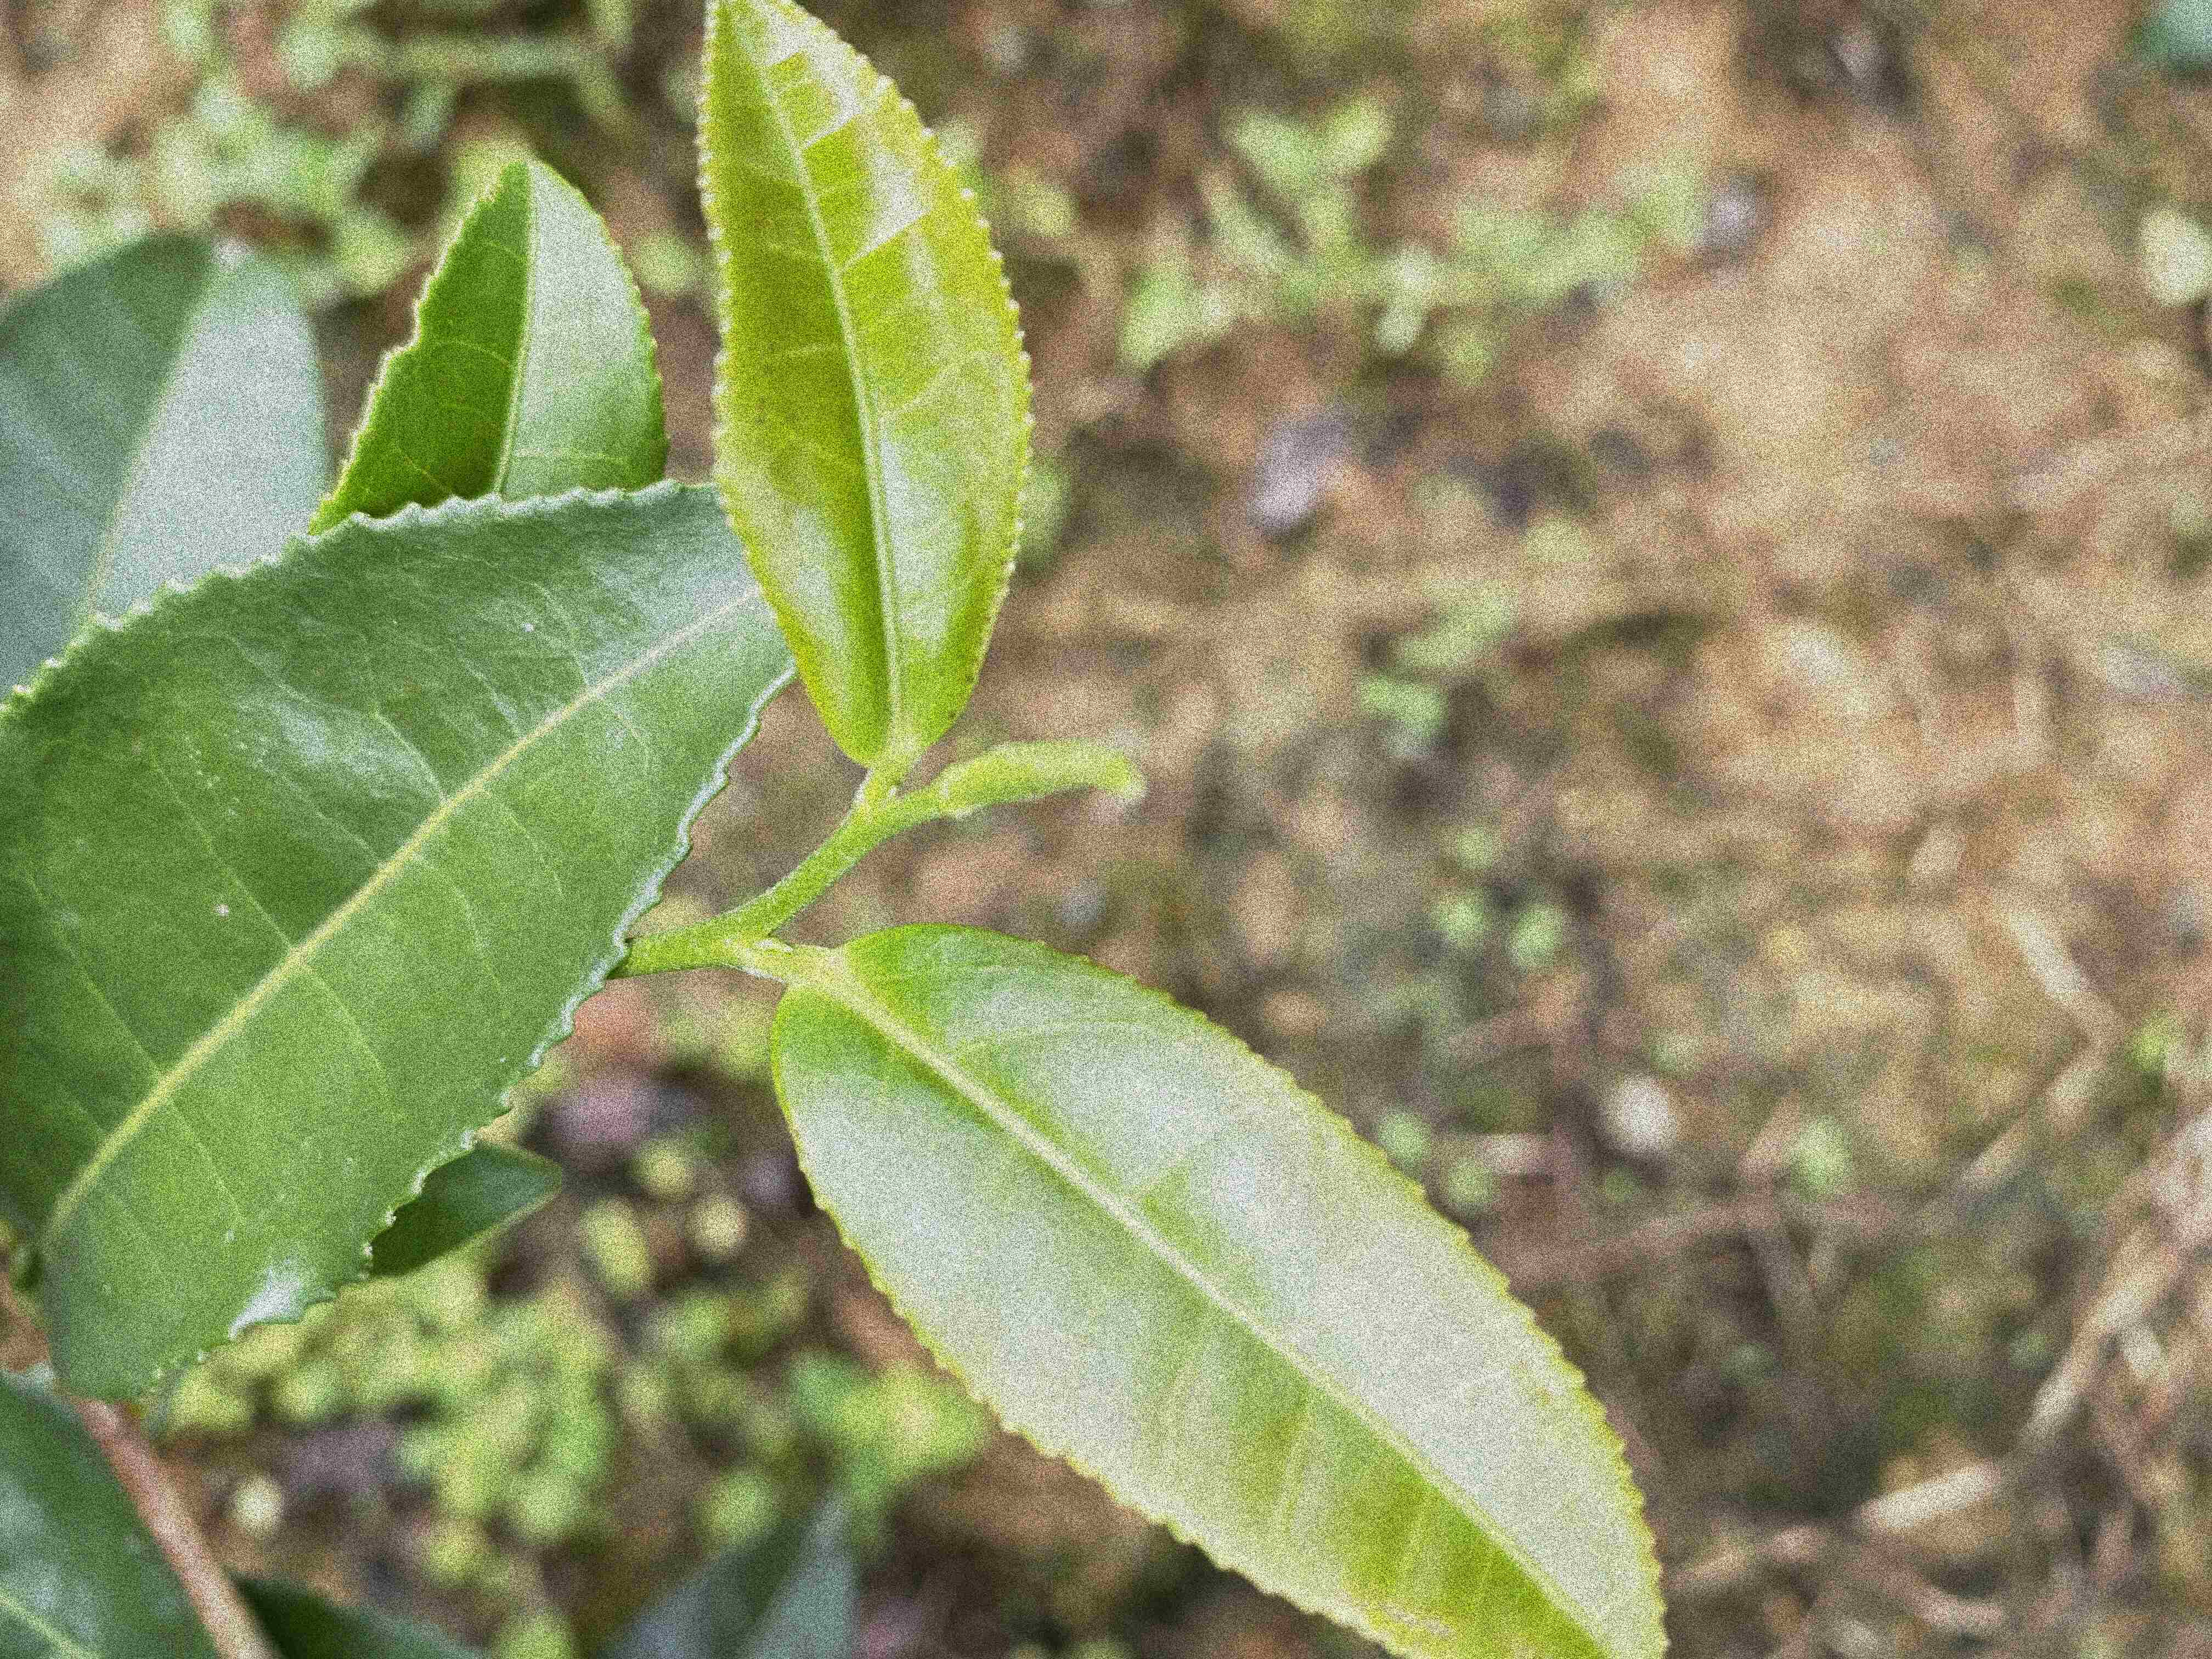healthy: (2, 477, 723, 1403), (312, 162, 674, 538)
tanju_low: (766, 917, 1669, 1654), (693, 0, 1038, 769)
